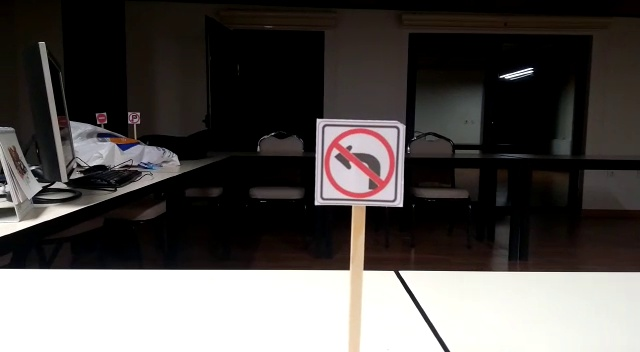sola_donulmez: (324, 127, 394, 199)
